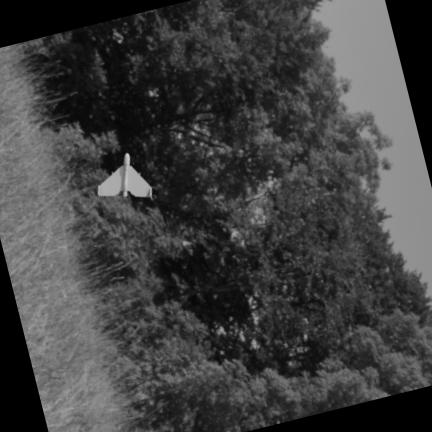Shahed: (97, 153, 150, 197)
